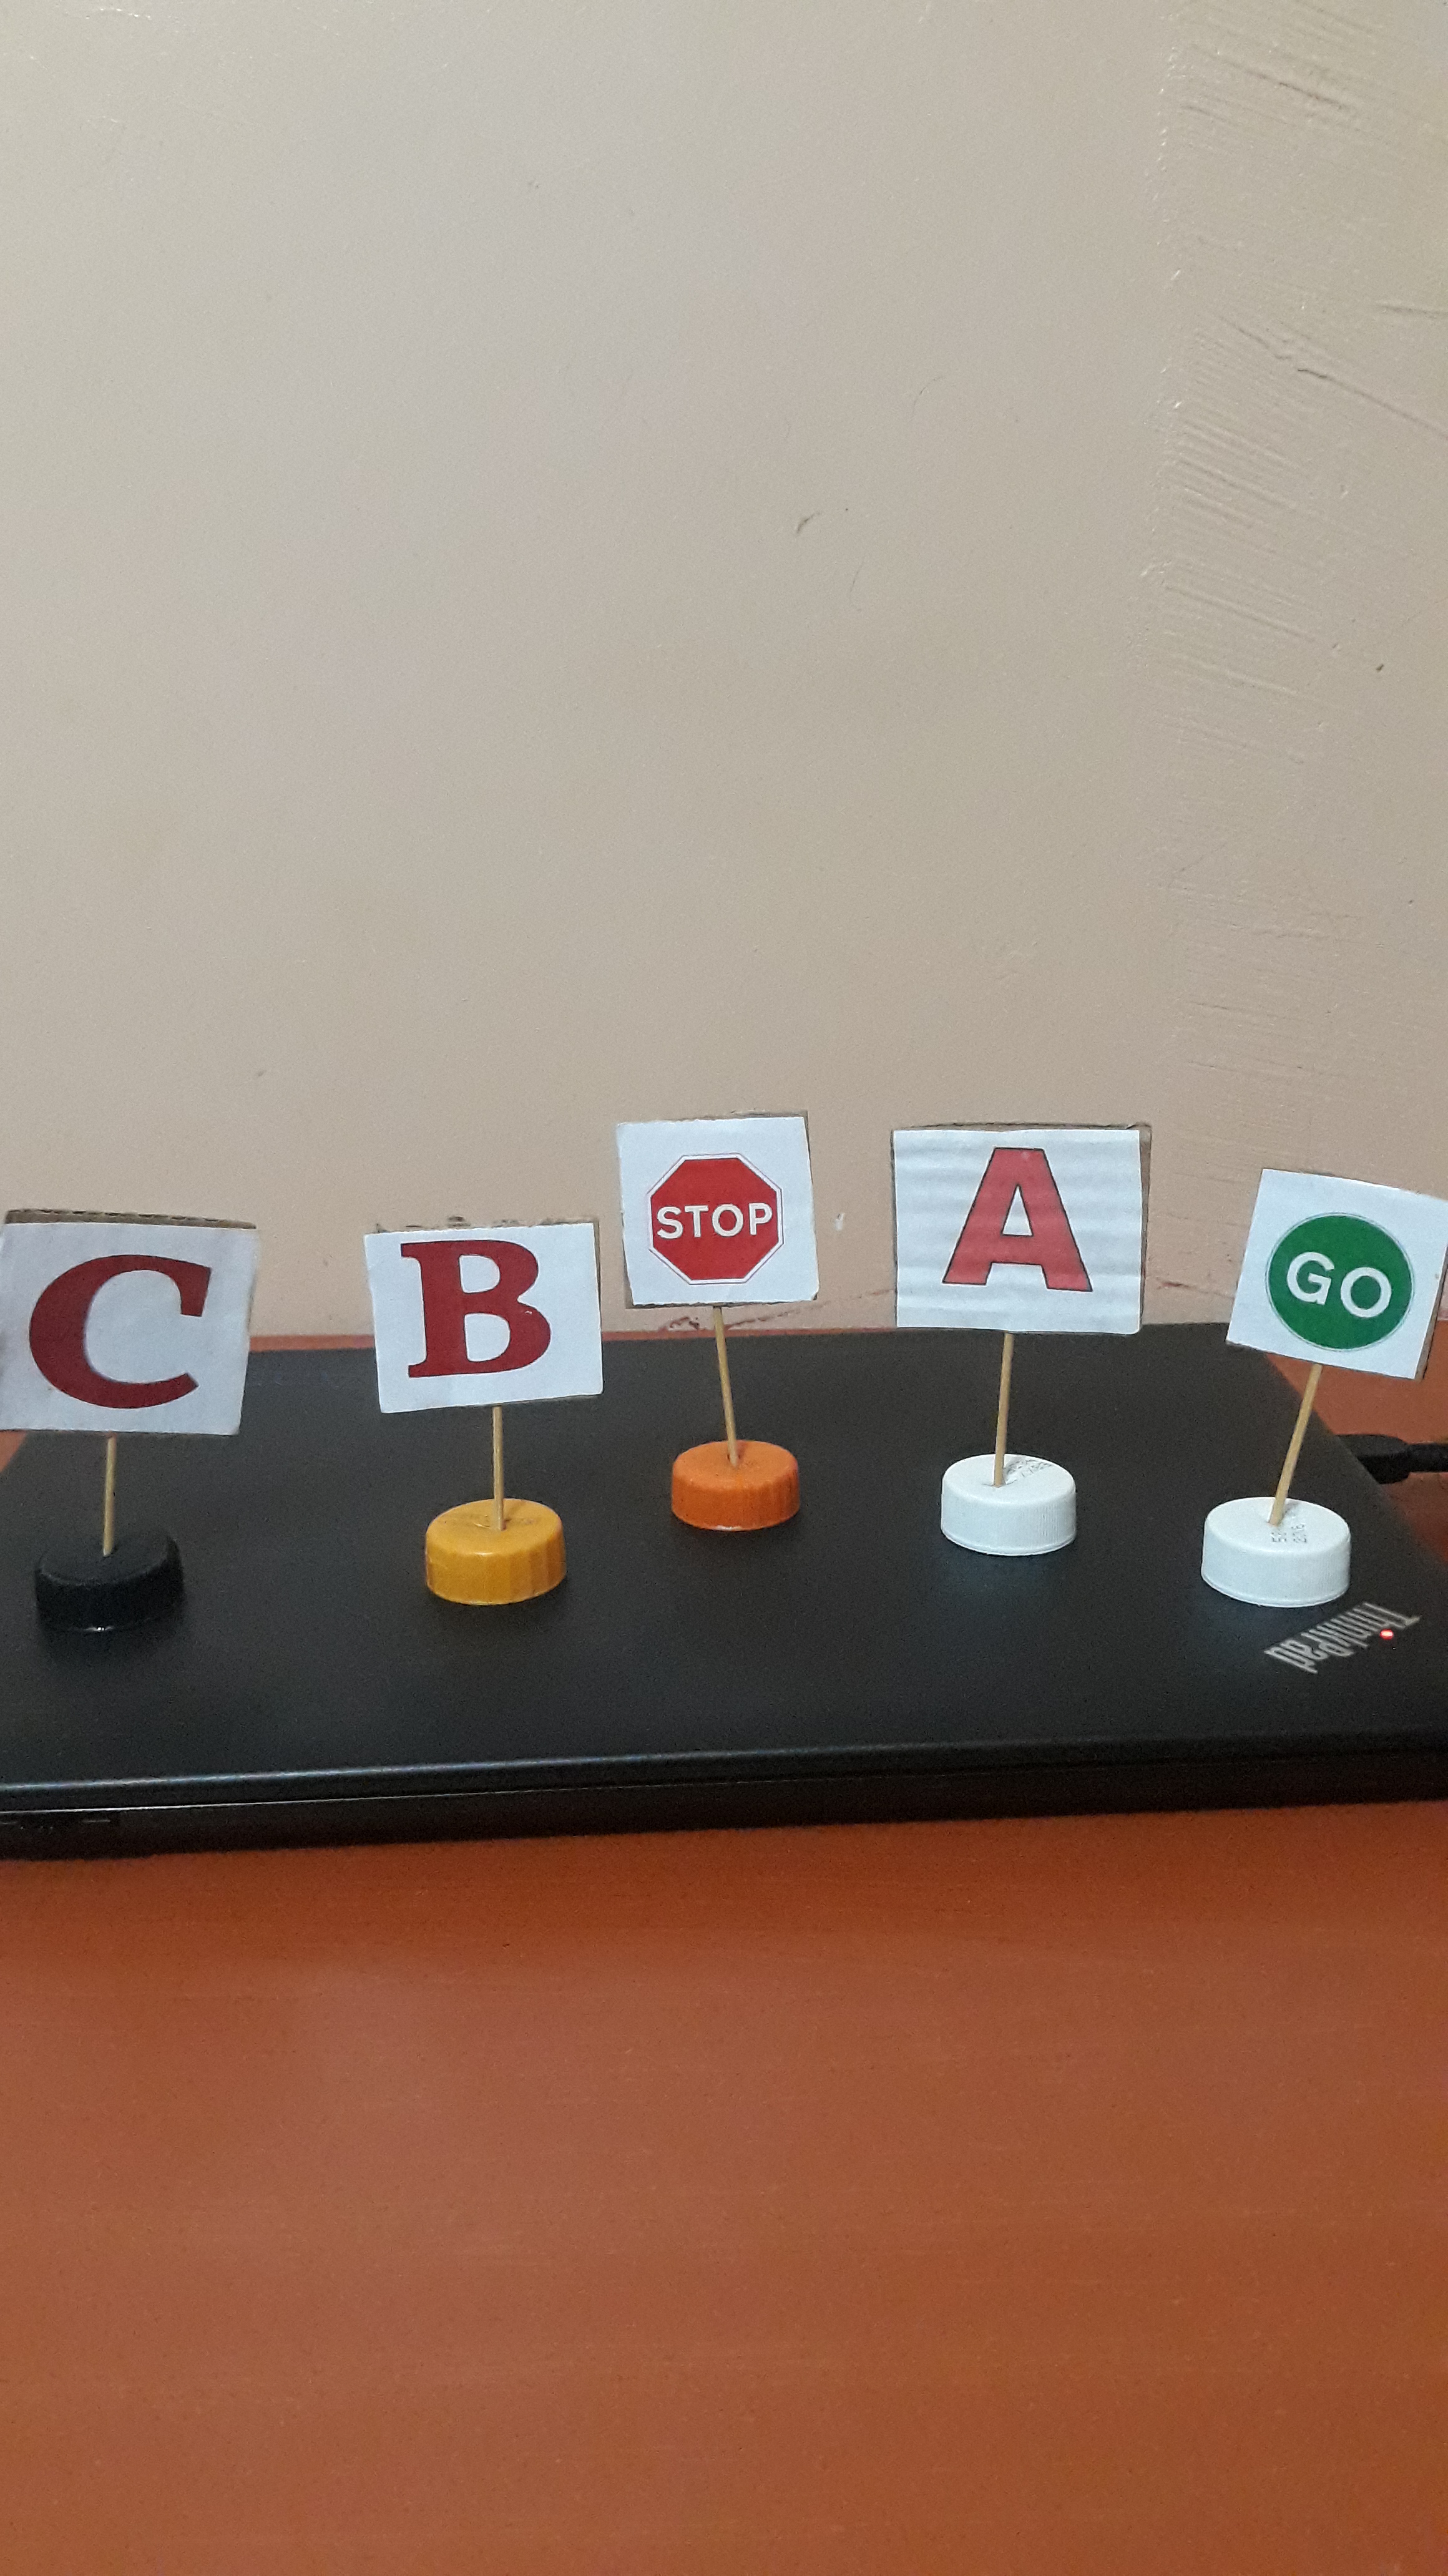go: (1259, 1182, 1411, 1353)
stop: (623, 1132, 802, 1300)
zone A: (905, 1136, 1145, 1327)
zone B: (381, 1242, 575, 1394)
zone C: (21, 1230, 225, 1431)
